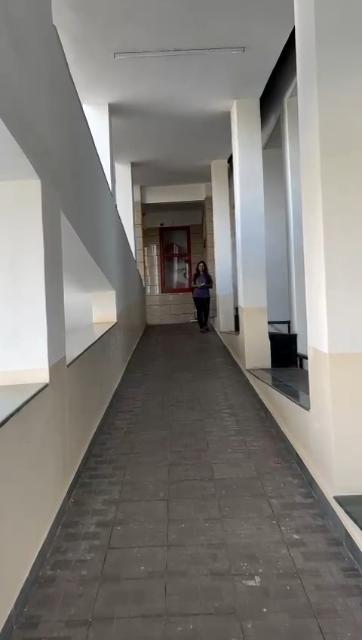floor: (3, 332, 356, 640)
moving-obj: (179, 251, 232, 333)
wall: (0, 0, 148, 631), (313, 6, 362, 479), (228, 97, 272, 377), (218, 153, 246, 337)
